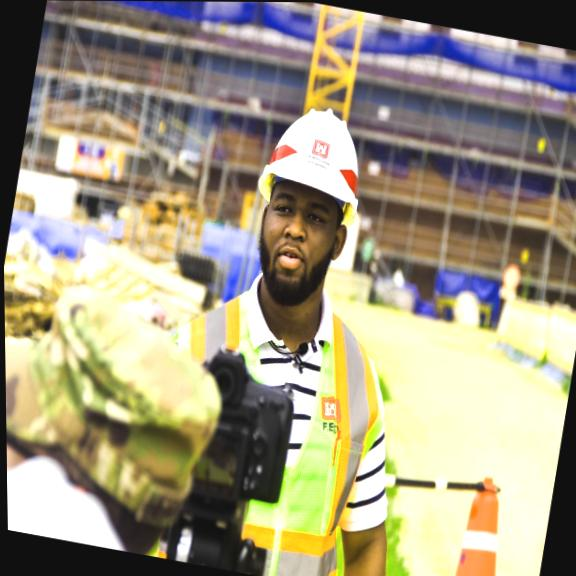no_safety_vest: (152, 277, 410, 576)
